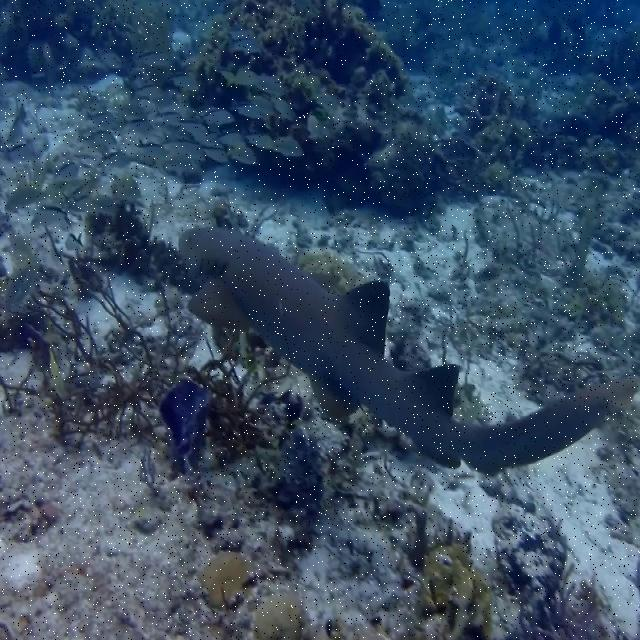fish: (179, 224, 621, 478)
reefs: (157, 377, 212, 468)
